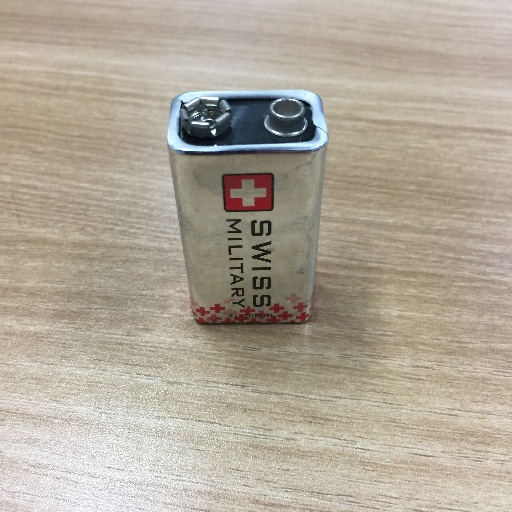Battery_3: (153, 71, 338, 335)
